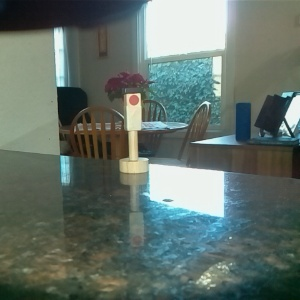traffic light red: (115, 85, 150, 178)
